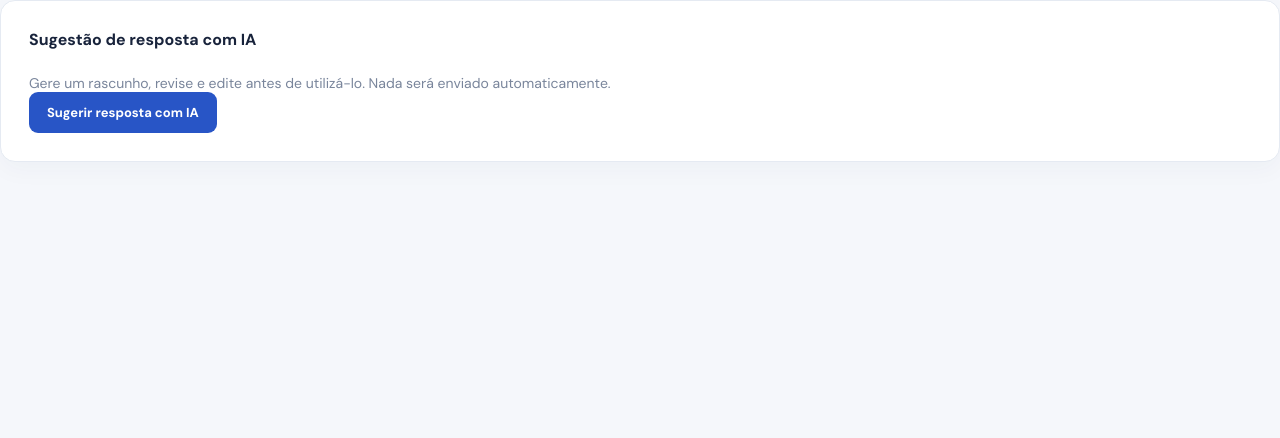
it: AIReplyPanel › gera um rascunho editável sem publicar automaticamente
The width and height of the screenshot is (1280, 438).
Later steps or results of the test are not shown.
Click the button "Sugerir resposta com IA": (123, 112) [29, 92, 217, 133]
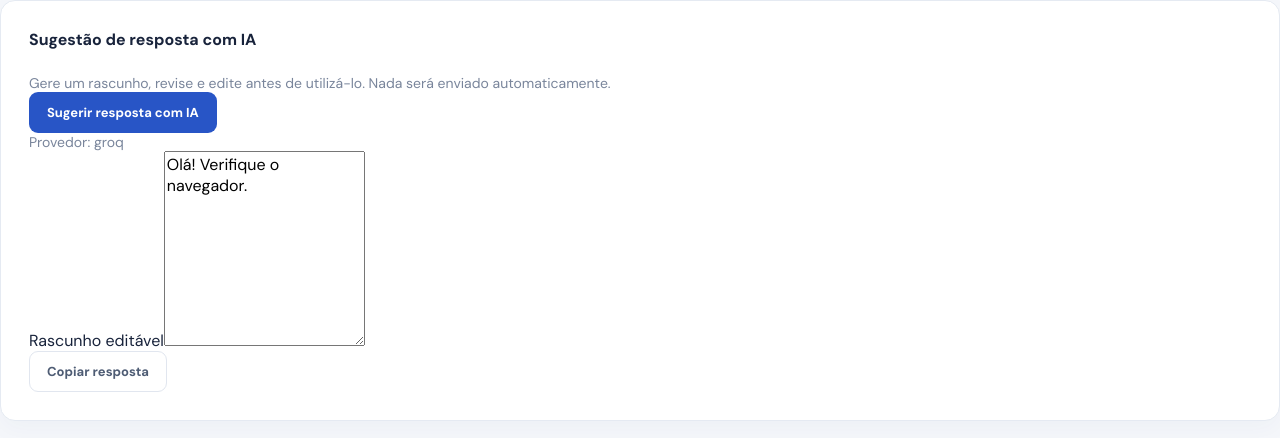
Check: the text box labelled "Rascunho editável" holds "Olá! Verifique o navegador.", box [164, 151, 365, 346]
Check: the text "Provedor: groq" is shown, box [29, 133, 124, 151]
